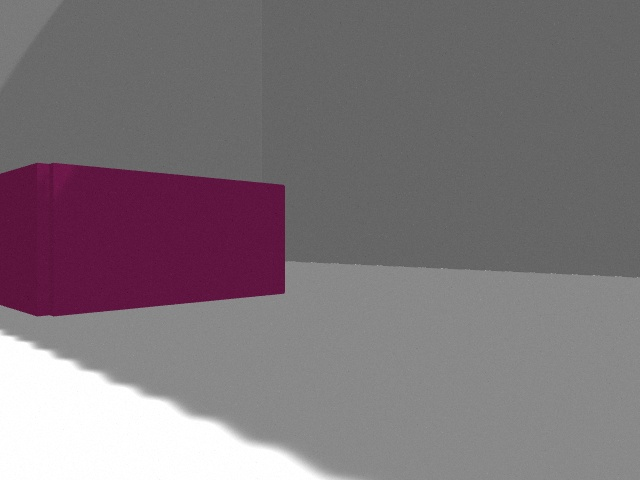red_drop_zone: (0, 163, 285, 316)
